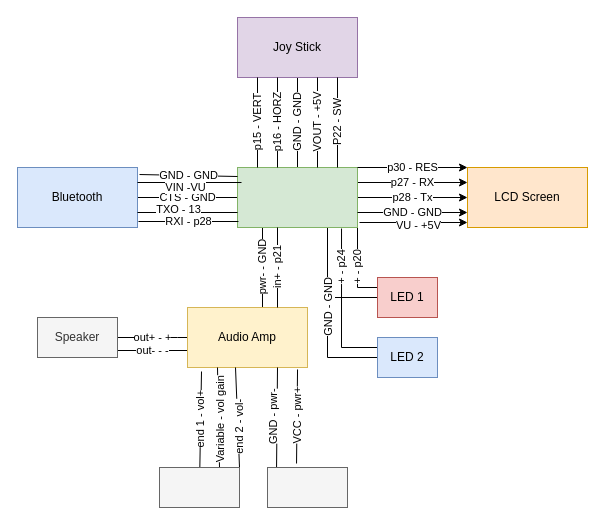
This 605x525 diagram has some shape labels left out. The shapes that lost their labels are listed below. From the top down, each one's box as (x1, y1, x2, y2) in pixels, then its label:
(236, 166, 358, 228): mbed lpc
(158, 466, 240, 508): Potentiometer
(266, 466, 348, 508): 5V 2A AC
